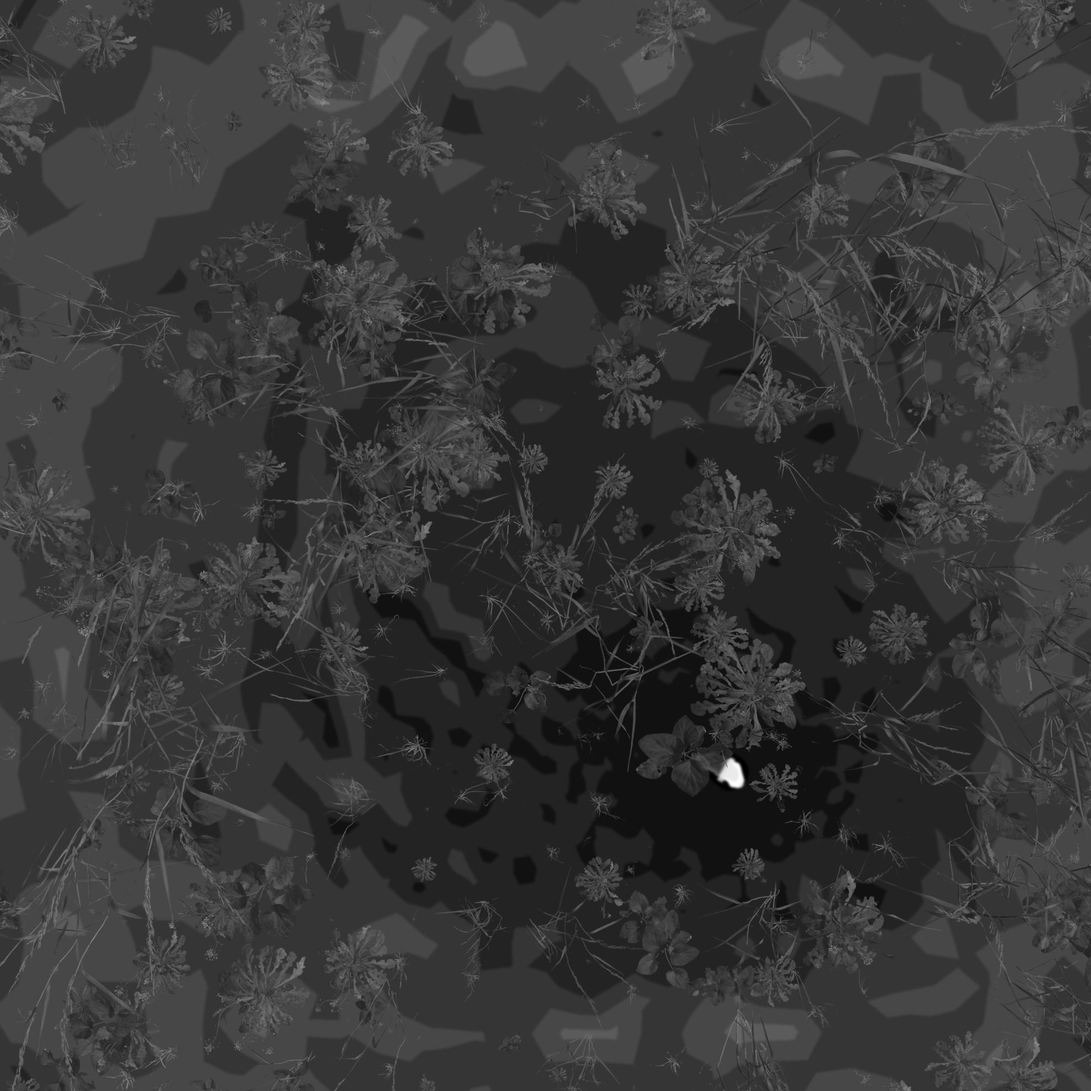landmine: (696, 750, 746, 791)
